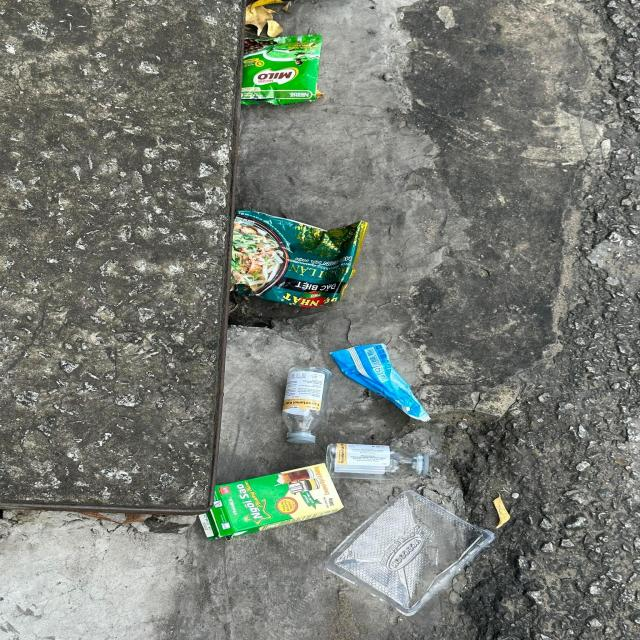bottle: (326, 443, 431, 478), (282, 368, 331, 443)
cardboard box: (197, 462, 346, 542)
packet: (328, 343, 433, 422), (242, 33, 324, 105)
plastic holder: (324, 489, 496, 618)
snack package: (227, 210, 369, 309)
